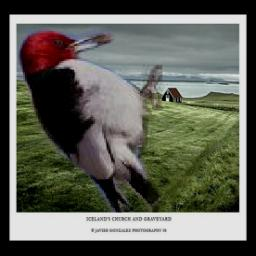Woodpecker: (18, 30, 163, 213)
